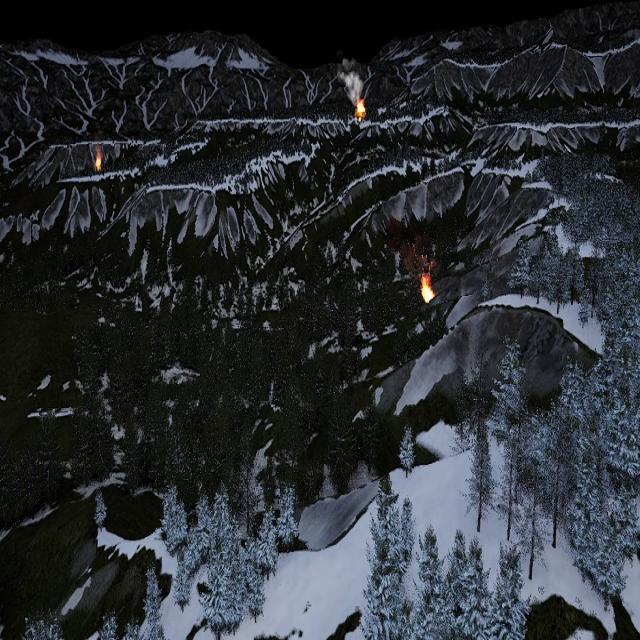fire: (422, 277, 434, 301), (356, 100, 365, 116), (96, 154, 102, 172)
smoke: (386, 217, 441, 279), (336, 56, 366, 102)
